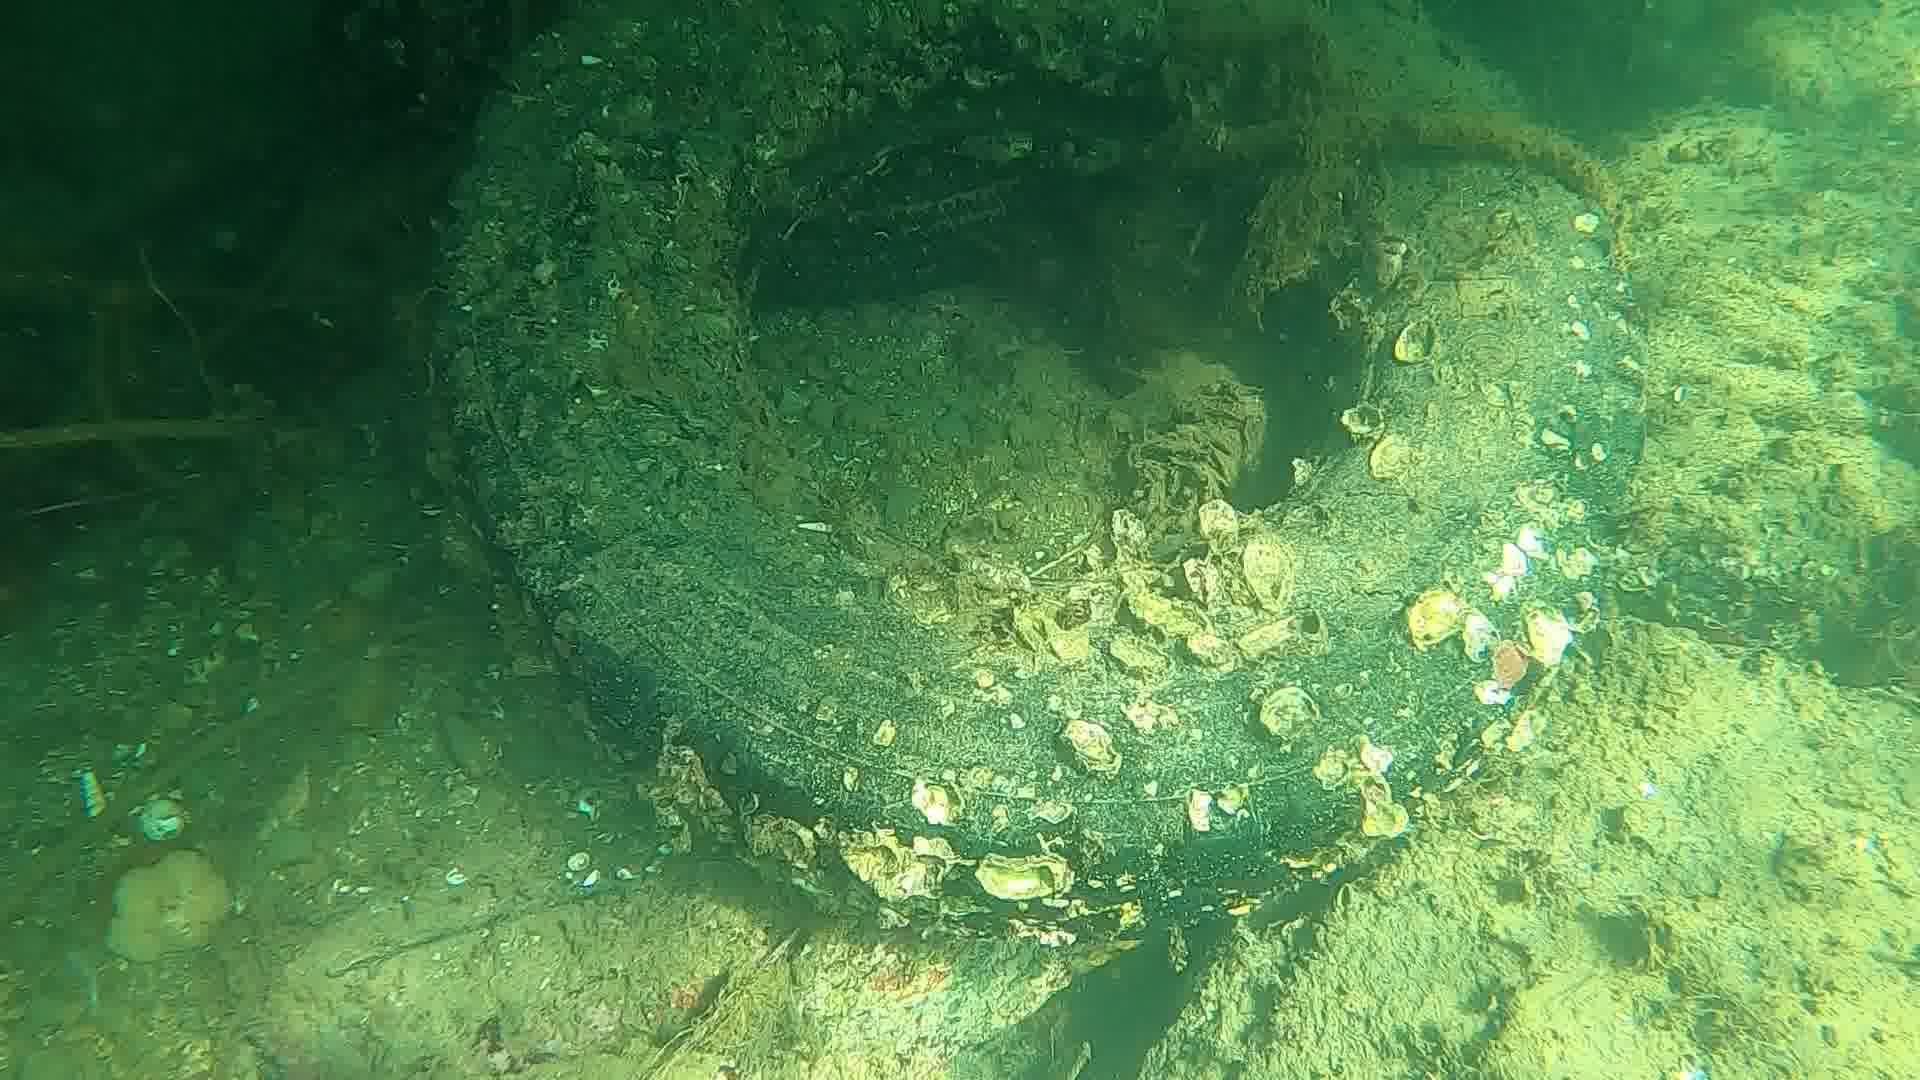rope: (1209, 105, 1613, 206)
tire: (440, 0, 1647, 943)
